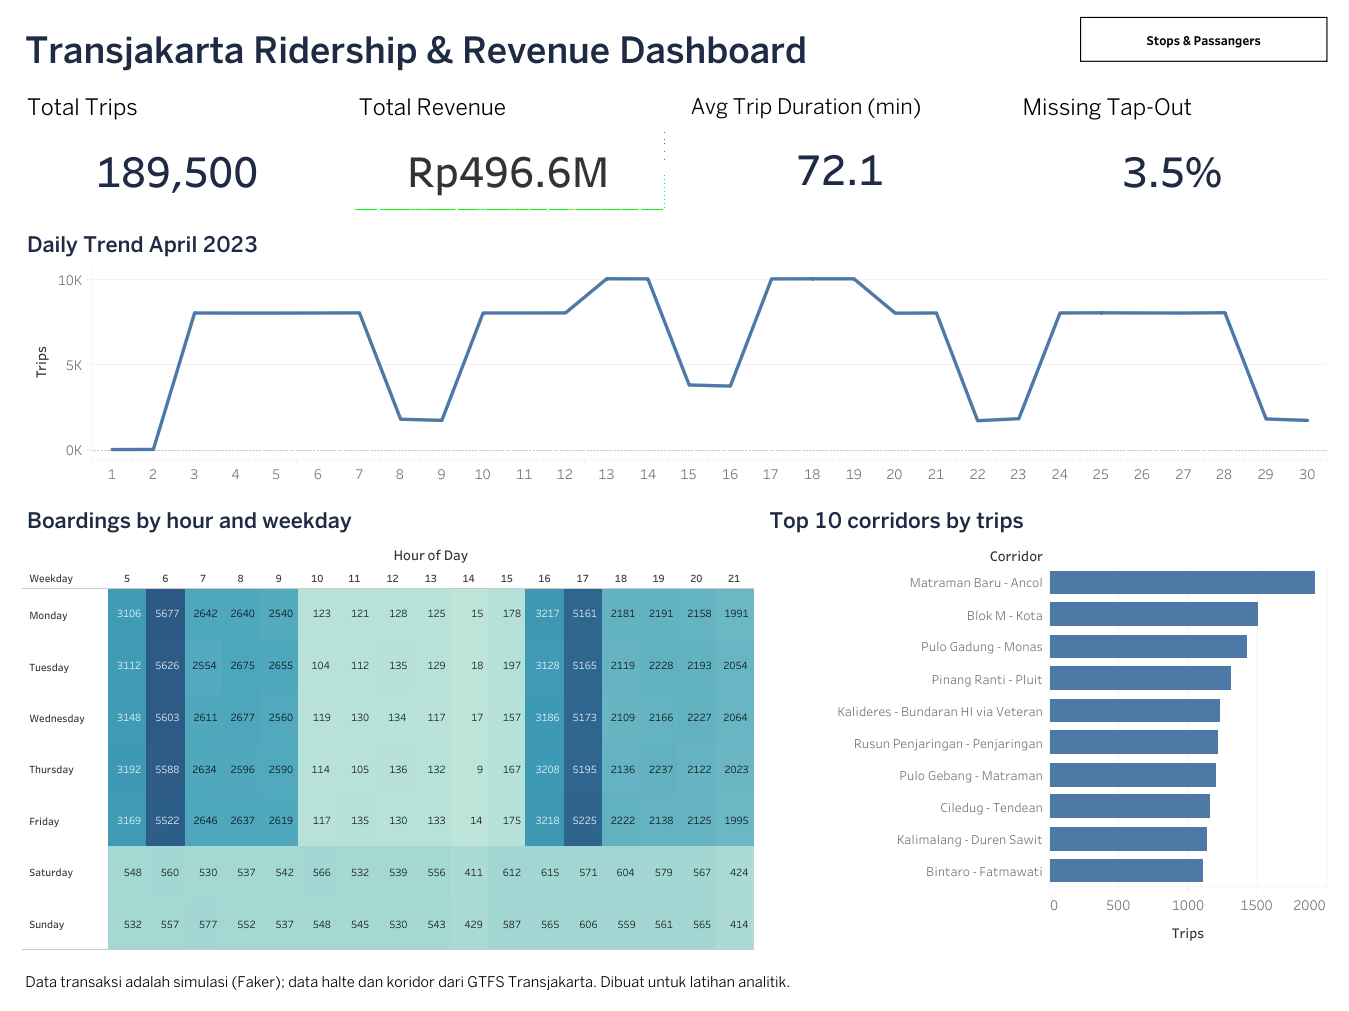

The page's visual inventory and layout, read from the dashboard file:
{"tool":"tableau","page":{"name":"Ridership Overview","canvas":[1200,900],"ordinal":0},"visuals":[{"type":"dashboard-object","box":[960,15,220,40]},{"type":"text","box":[20,20,1160,50]},{"type":"worksheet","title":"KPI Trips","mark":"Automatic","box":[20,75,275,110]},{"type":"worksheet","title":"KPI Revenue","mark":"Automatic","box":[315,75,275,110]},{"type":"worksheet","title":"KPI Duration","mark":"Automatic","box":[610,75,275,110]},{"type":"worksheet","title":"KPI Missing","mark":"Automatic","box":[905,75,275,110]},{"type":"worksheet","title":"Daily Trend","mark":"Line","rows":["Calculation_1612488624361477"],"cols":["tapInTime"],"box":[20,200,1160,230]},{"type":"worksheet","title":"Peak Hours","mark":"Square","rows":["Calculation_1612488623964162"],"cols":["Calculation_1612488623869953"],"box":[20,445,651,400]},{"type":"worksheet","title":"Top Corridors","mark":"Bar","rows":["corridorName"],"cols":["Calculation_1612488624361477"],"box":[680,445,500,400]},{"type":"text","box":[20,855,1160,35]}]}

Visuals, with their boxes in screenshot pixels (x1, y1, x2, y2), scaled from the page's 1200x900 canvas onto the 1349x1011 screenshot:
dashboard-object: box(1079, 17, 1327, 62)
text: box(22, 22, 1327, 79)
"KPI Trips" worksheet: box(22, 84, 332, 208)
"KPI Revenue" worksheet: box(354, 84, 663, 208)
"KPI Duration" worksheet: box(686, 84, 995, 208)
"KPI Missing" worksheet: box(1017, 84, 1327, 208)
"Daily Trend" worksheet (Line marks): box(22, 225, 1327, 483)
"Peak Hours" worksheet (Square marks): box(22, 500, 754, 949)
"Top Corridors" worksheet (Bar marks): box(764, 500, 1327, 949)
text: box(22, 960, 1327, 1000)
